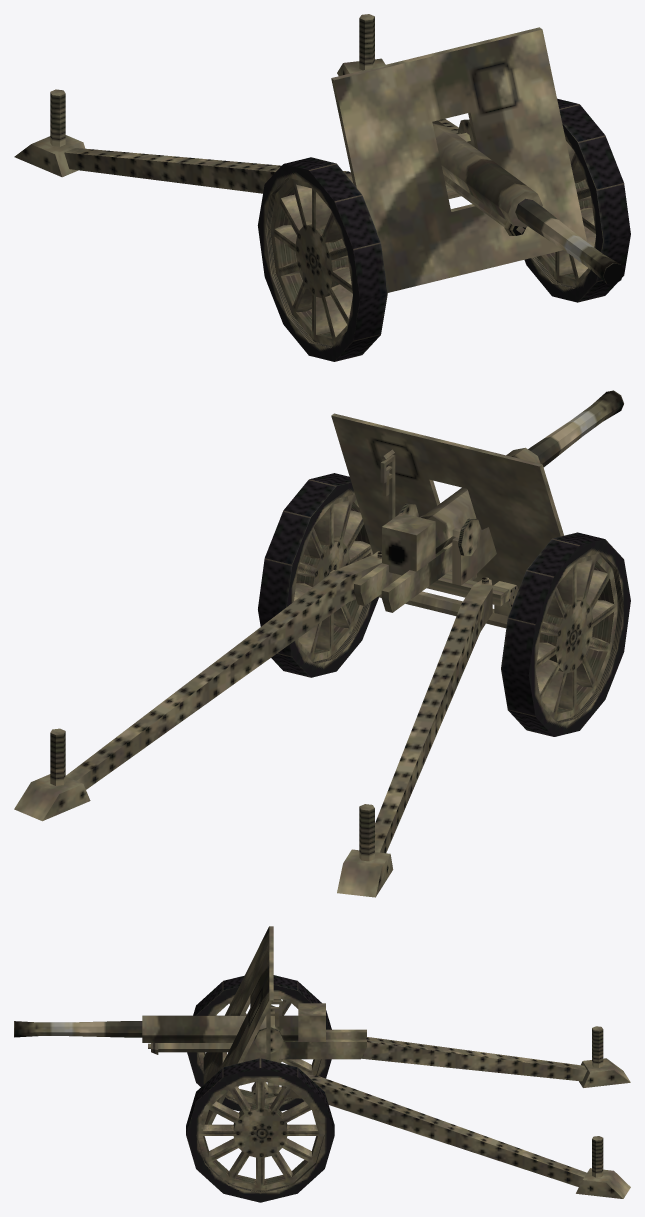
The model's file is ITACannone75.dae.
3 views of the same model, one above another, from view 1: azimuth 30°, elevation 25°; view 2: azimuth 150°, elevation 25°; view 3: azimuth 270°, elevation 25° (orthographic). The views are drawn at different scales.
Visible parts, largest first — view 1: turret, wheels, trail1, sleeve, barrel, trail2; view 2: wheels, turret, trail2, trail1, barrel, sleeve; view 3: wheels, trail2, sleeve, trail1, turret, barrel.
Boxes of the visible parts, x1=… form: turret: x1=331, y1=27, x2=586, y2=292; wheels: x1=257, y1=98, x2=630, y2=361; trail1: x1=14, y1=89, x2=353, y2=193; sleeve: x1=432, y1=120, x2=542, y2=235; barrel: x1=515, y1=198, x2=624, y2=284; trail2: x1=337, y1=14, x2=458, y2=134; wheels: x1=258, y1=473, x2=630, y2=736; turret: x1=331, y1=413, x2=563, y2=616; trail2: x1=14, y1=555, x2=381, y2=821; trail1: x1=337, y1=579, x2=492, y2=897; barrel: x1=382, y1=390, x2=623, y2=575; sleeve: x1=354, y1=447, x2=540, y2=612; wheels: x1=186, y1=975, x2=334, y2=1202; trail2: x1=272, y1=1074, x2=630, y2=1198; sleeve: x1=142, y1=1015, x2=366, y2=1059; trail1: x1=361, y1=1026, x2=630, y2=1087; turret: x1=203, y1=926, x2=283, y2=1124; barrel: x1=14, y1=1003, x2=325, y2=1041.
Size of the model in its own units: 17.58 by 35.73 by 12.24.
